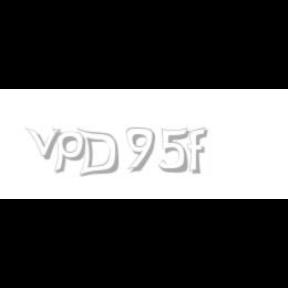5: (158, 128, 189, 174)
9: (126, 128, 156, 172)
D: (76, 128, 119, 178)
f: (187, 128, 211, 174)
p: (53, 128, 90, 174)
v: (25, 128, 65, 160)
